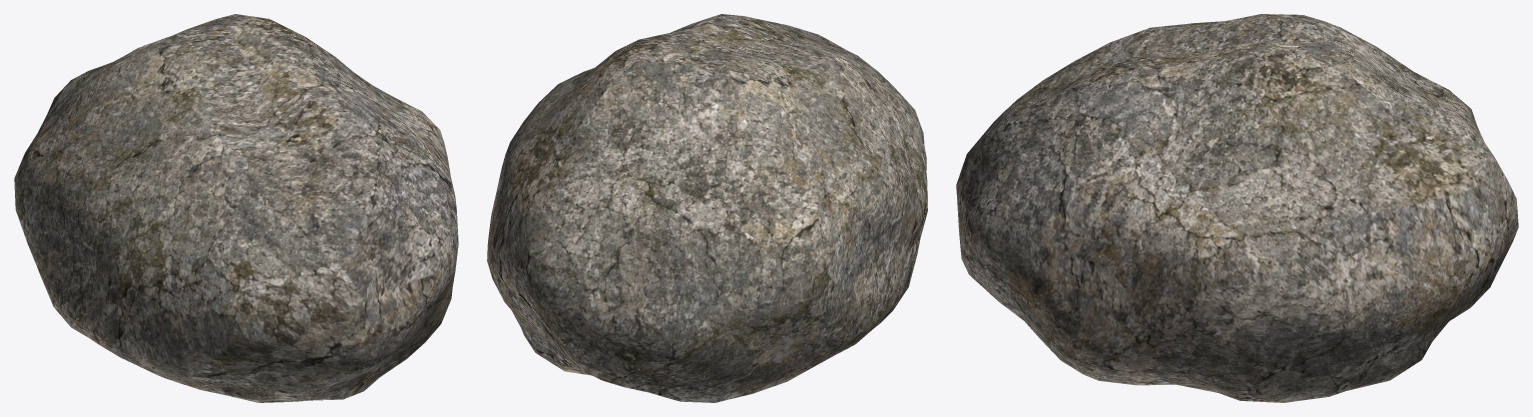
The model's file is rock_3.fbx.
3 renders of one model, left to right at view 1: azimuth 30°, elevation 25°; view 2: azimuth 150°, elevation 25°; view 3: azimuth 270°, elevation 25°, orthographic. The views are drawn at different scales.
Parts seen in each view (by area): view 1: rock_3; view 2: rock_3; view 3: rock_3.
Part boxes in pixels (x1,y1,x2,y2): rock_3: [14, 14, 458, 402]; rock_3: [487, 14, 927, 402]; rock_3: [956, 14, 1518, 402].
Size of what is drawn, in the model's own units: 1.92 by 1.48 by 2.46.
Materials: 1 (1 with a texture image).
